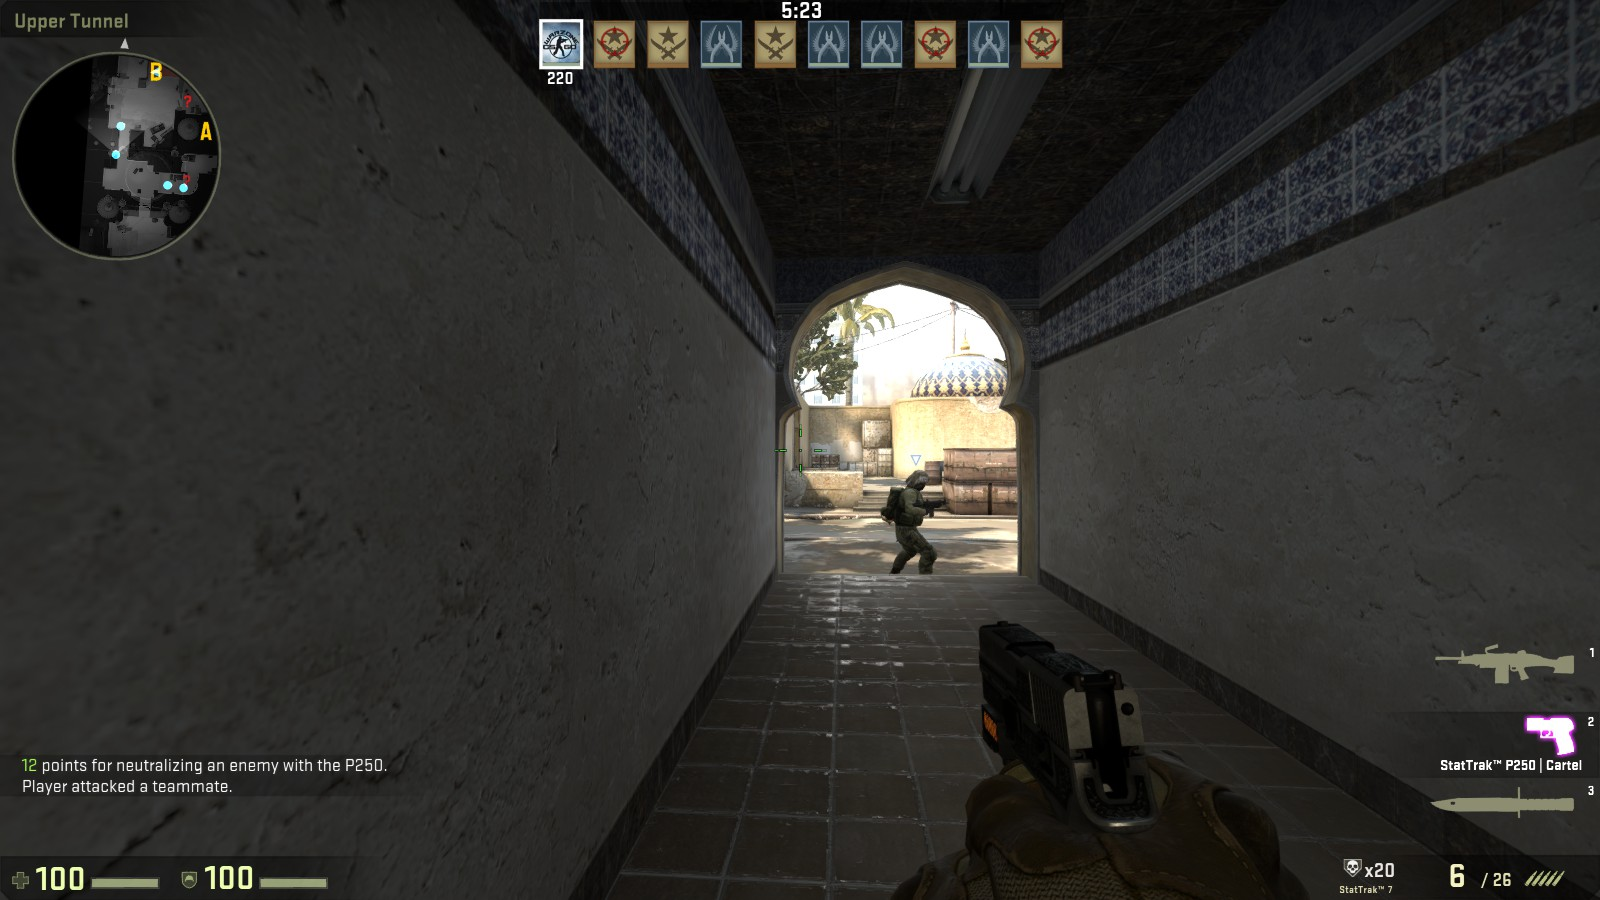c: (888, 468, 938, 575)
ch: (905, 467, 931, 490)
